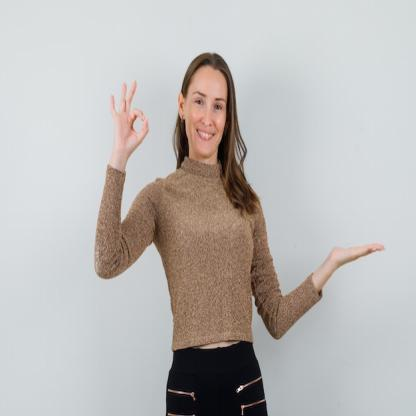ok: (108, 78, 150, 156)
